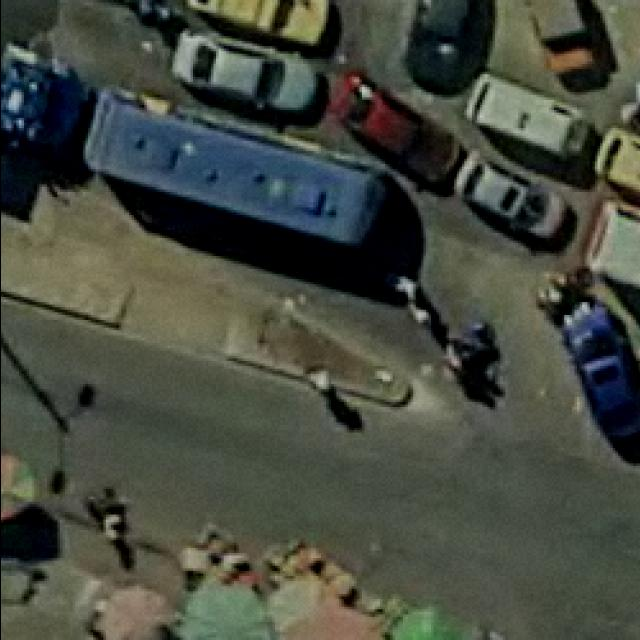vendedor_ambulante: (181, 576, 270, 640), (88, 584, 178, 638), (284, 600, 382, 639), (0, 445, 44, 525), (392, 608, 472, 640)
